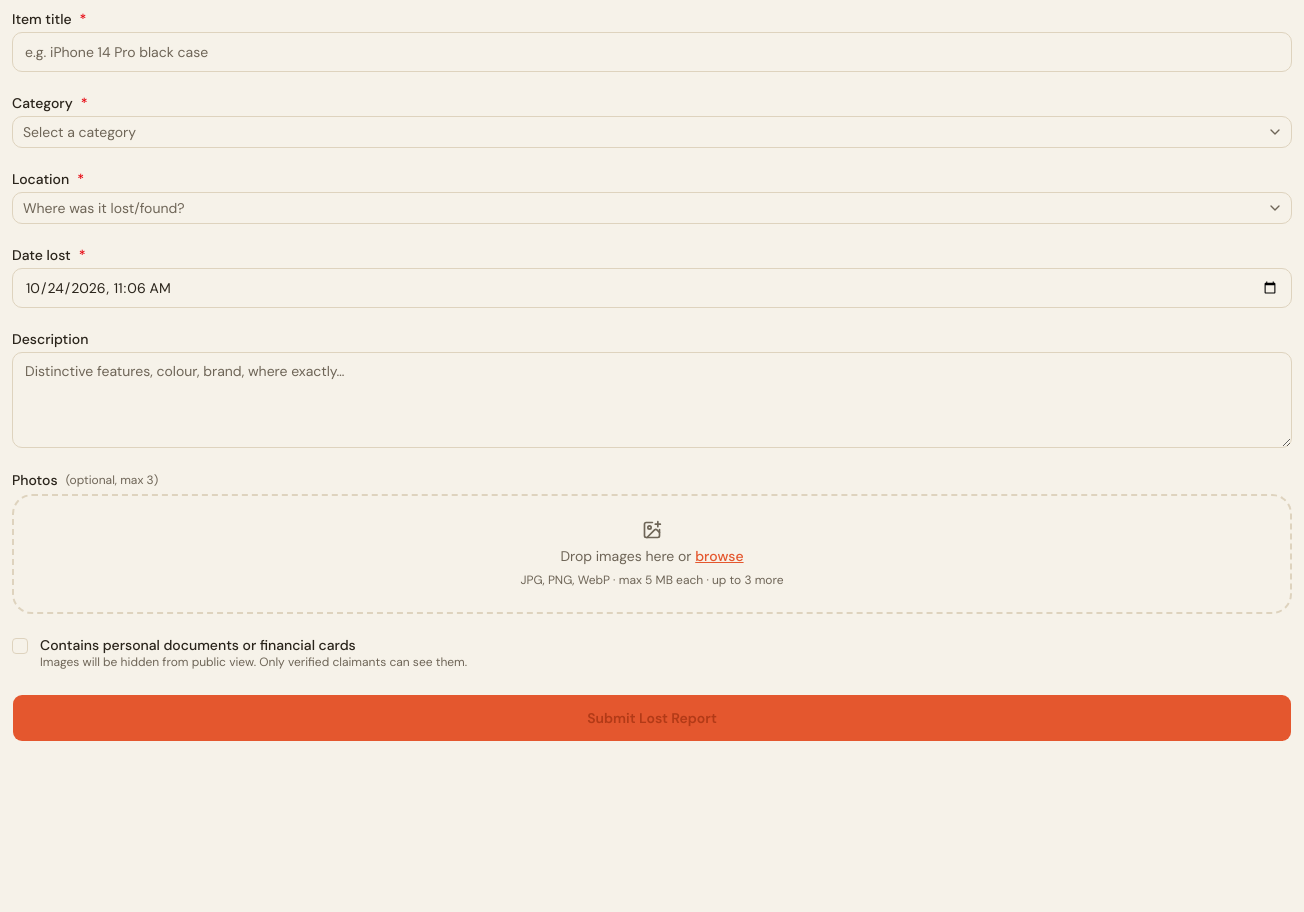
Test: ReportForm validation errors › shows category error when submitted without category
Type "My lost phone" into the field labelled "Item title *" at coordinates (652, 52), box [12,32,1292,72]
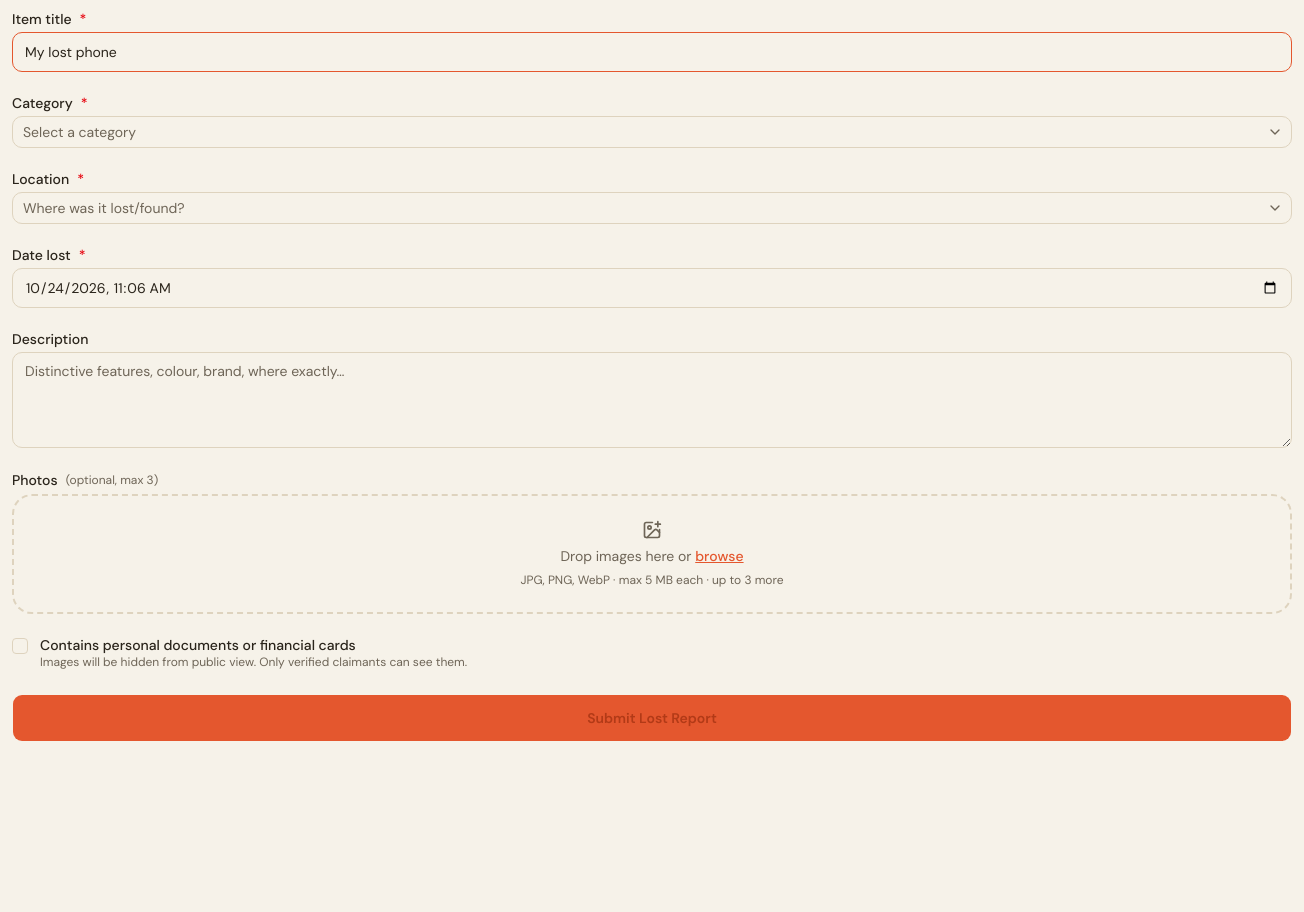
Click the button "Submit Lost Report" at coordinates (652, 718), box [12,694,1292,742]
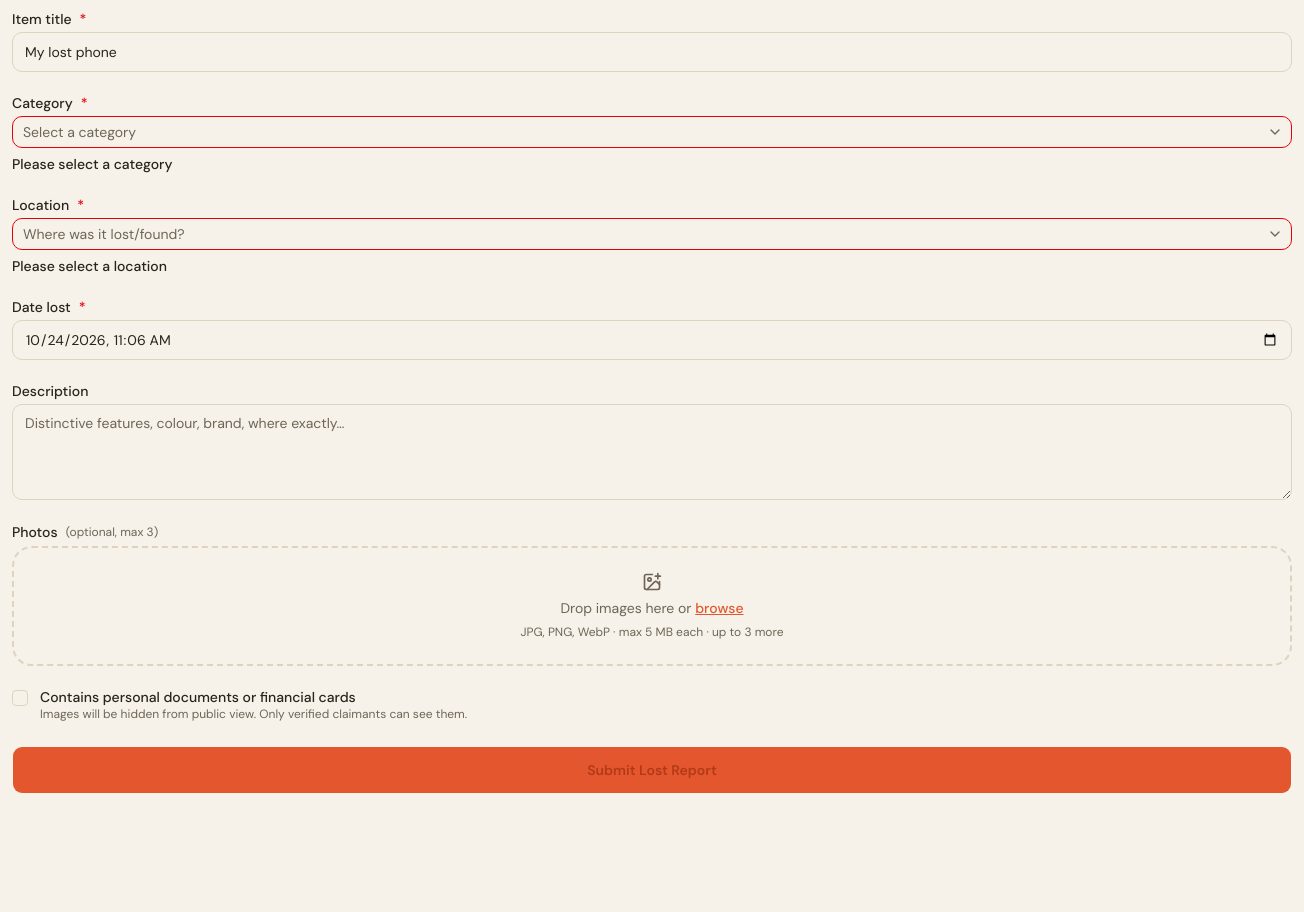
Expected: the text "Please select a category" is shown, [12,155,172,173]
